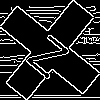Z: (25, 25, 77, 80)
